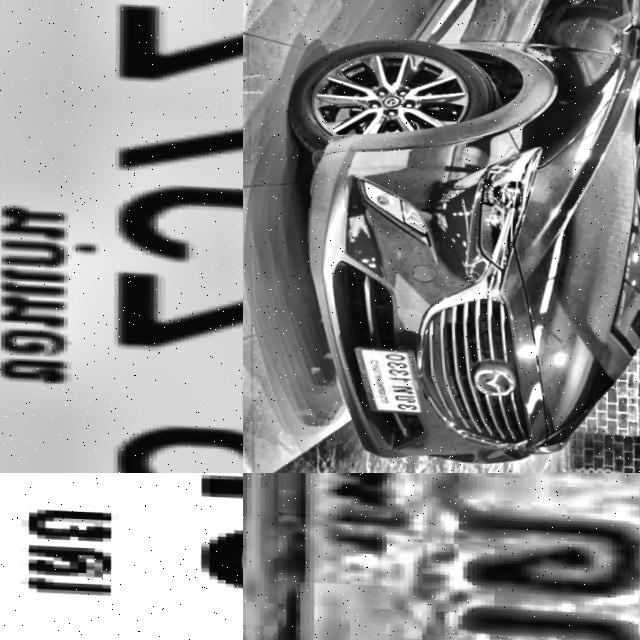license-plate: (0, 0, 243, 473), (243, 473, 640, 640), (0, 473, 243, 640), (346, 343, 425, 414)
